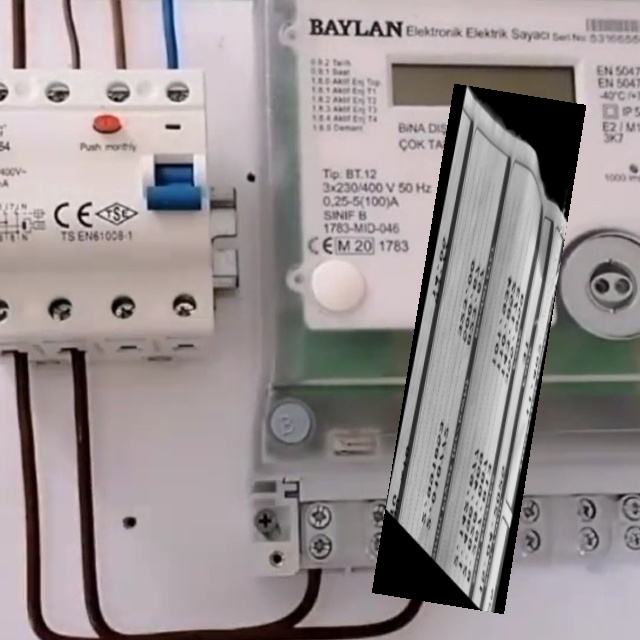electricity-bill: (371, 83, 585, 613)
